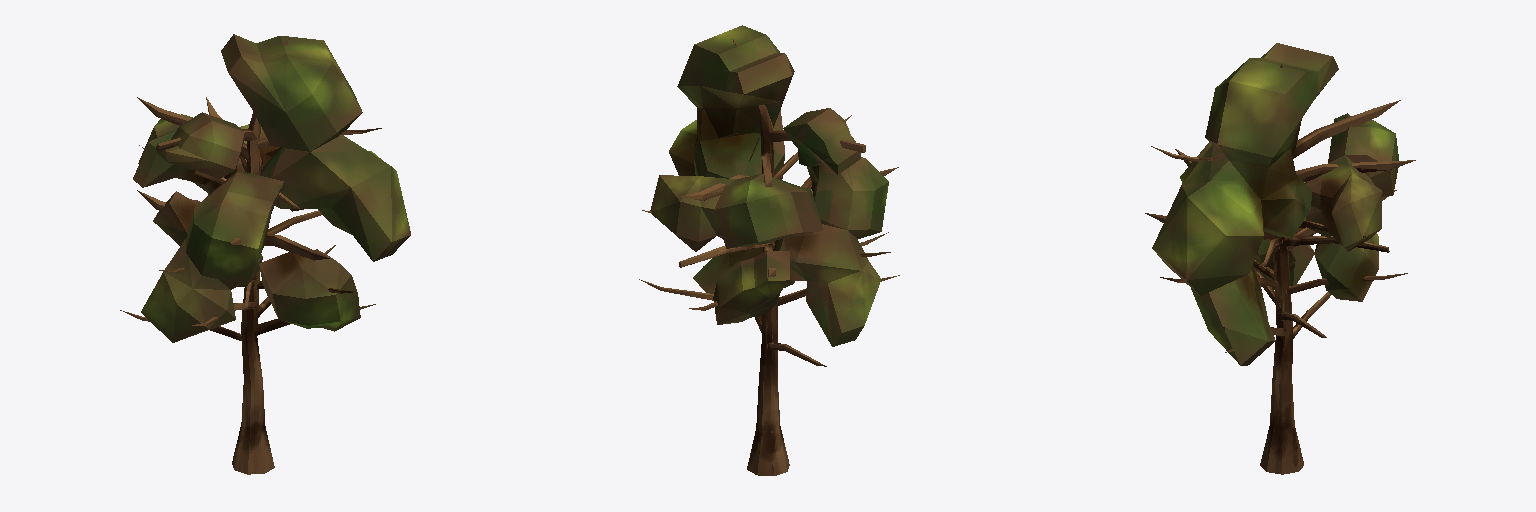
3 views of the same model, side by side, from view 1: azimuth 30°, elevation 25°; view 2: azimuth 150°, elevation 25°; view 3: azimuth 270°, elevation 25° (orthographic).
Parts seen in each view (by area): view 1: Leaves_Circle.002, Trunk_Circle; view 2: Leaves_Circle.002, Trunk_Circle; view 3: Leaves_Circle.002, Trunk_Circle.
Boxes of the visible parts, x1=… form: Leaves_Circle.002: x1=133, y1=34, x2=410, y2=342; Trunk_Circle: x1=120, y1=37, x2=381, y2=474; Leaves_Circle.002: x1=650, y1=25, x2=888, y2=346; Trunk_Circle: x1=639, y1=39, x2=899, y2=475; Leaves_Circle.002: x1=1152, y1=43, x2=1398, y2=365; Trunk_Circle: x1=1145, y1=64, x2=1415, y2=474.
Size of the model in its own units: 279 by 492 by 290.
Materials: 1 (1 with a texture image).